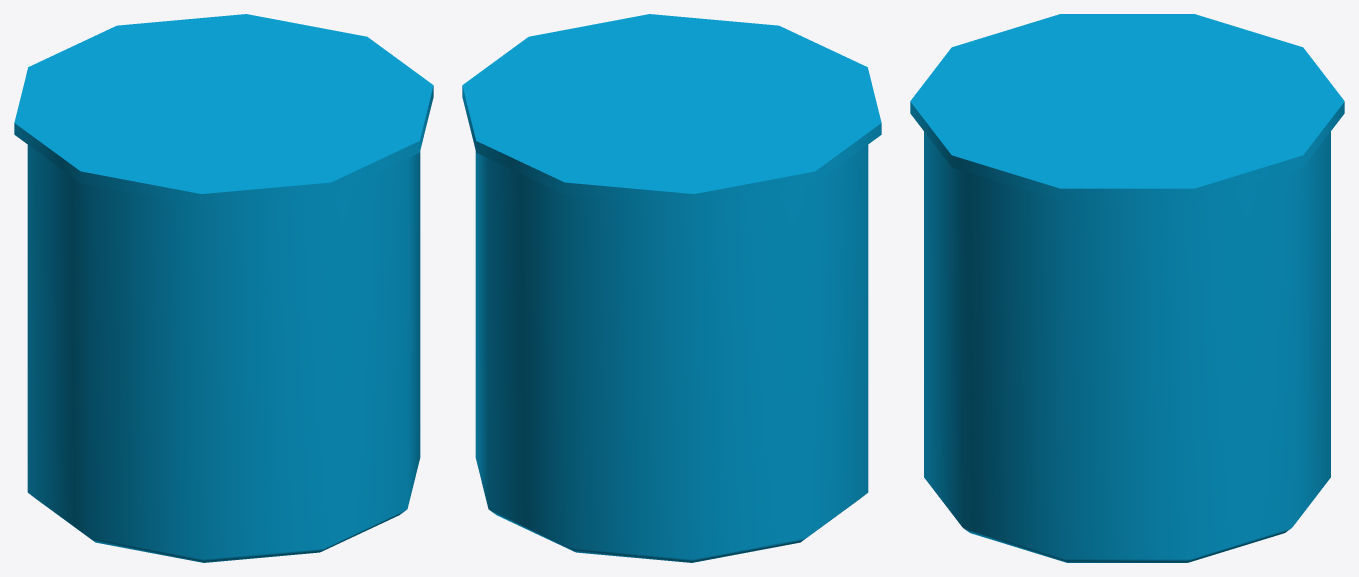
File: Paint_Bucket_05_Lod1.fbx
The picture shows the model from 3 angles, left to right: view 1: azimuth 30°, elevation 25°; view 2: azimuth 150°, elevation 25°; view 3: azimuth 270°, elevation 25°; orthographic projection.
Parts seen in each view (by area): view 1: Paint_Bucket_05_Lod1; view 2: Paint_Bucket_05_Lod1; view 3: Paint_Bucket_05_Lod1.
Boxes of the visible parts, x1,y1,x2,y2 form: Paint_Bucket_05_Lod1: (14,14,433,562); Paint_Bucket_05_Lod1: (462,14,881,562); Paint_Bucket_05_Lod1: (910,14,1344,562).
Size of the model in its own units: 23.93 by 24.5 by 25.17.
